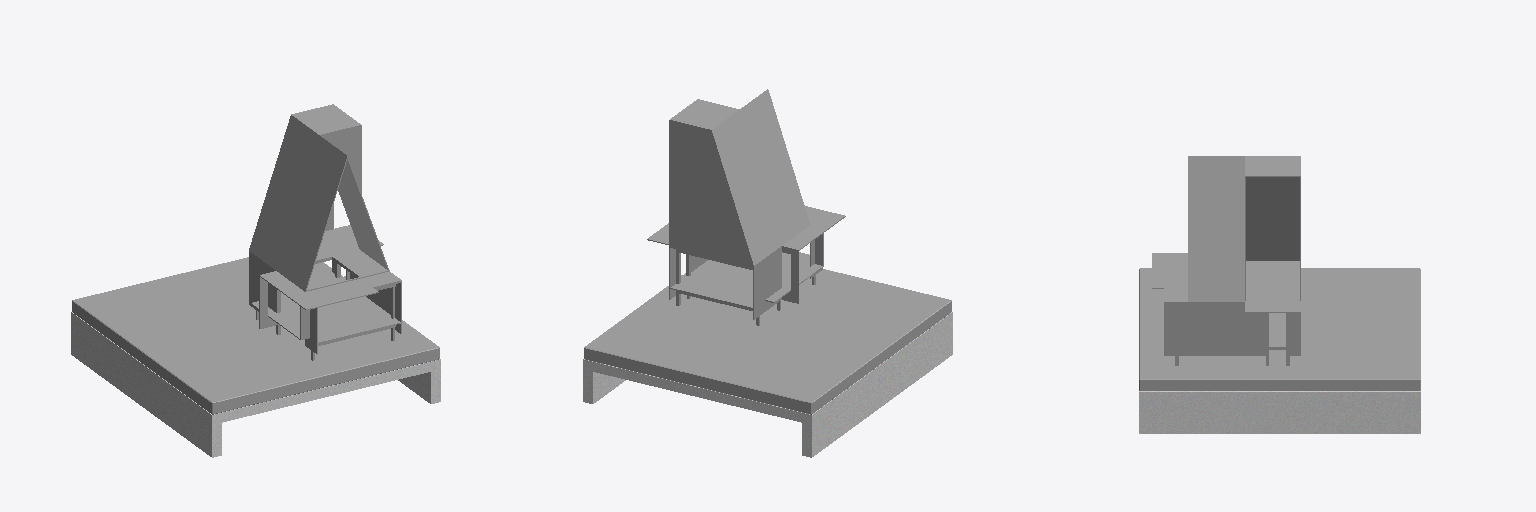
3 views of the same model, side by side, from view 1: azimuth 30°, elevation 25°; view 2: azimuth 150°, elevation 25°; view 3: azimuth 270°, elevation 25° (orthographic).
Parts seen in each view (by area): view 1: pCube20, polySurface3 polySurface2, pCube21, pCube7, pCube5, pCube4; view 2: pCube20, polySurface3 polySurface2, pCube21, pCube7, pCube5; view 3: pCube20, polySurface3 polySurface2, pCube21, pCube5, pCube4, polySurface2 polySurface4, pCube7.
Part boxes in pixels (x1,y1,x2,y2): pCube20: (72,257,439,414); polySurface3 polySurface2: (249,104,389,291); pCube21: (71,312,440,457); pCube7: (251,272,400,345); pCube5: (249,252,401,354); pCube4: (249,251,401,305); pCube20: (584,269,951,414); polySurface3 polySurface2: (669,89,809,265); pCube21: (583,312,952,457); pCube7: (670,233,823,310); pCube5: (669,212,845,319); pCube20: (1139,268,1420,390); polySurface3 polySurface2: (1188,156,1300,301); pCube21: (1139,391,1420,433); pCube5: (1152,253,1300,355); pCube4: (1152,261,1244,302); polySurface2 polySurface4: (1245,301,1300,312); pCube7: (1269,313,1285,349).
Bounding box in the file's own units: 45.63 × 46.82 × 48.67.
2 materials, 1 textured.